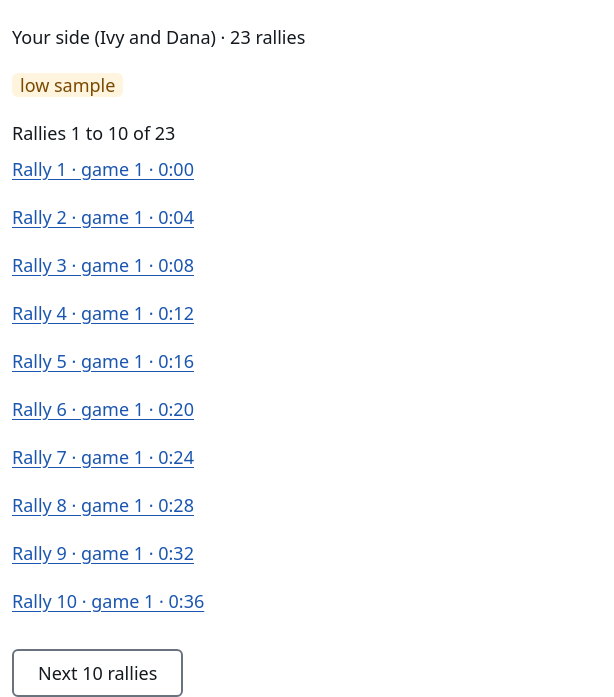
Test: E-02 all rallies behind a stat (EvidenceAll) › pages through 10 at a time with the position in words, forward and back
(page scrolled)
Expected: the text "Rallies 1 to 10 of 23" is shown, x1=12 y1=121 x2=175 y2=145
Expected: the text "Your side (Ivy and Dana) · 23 rallies" is shown, x1=12 y1=25 x2=305 y2=49
Click the button "Next 10 rallies".
click(98, 673)  # box x1=12 y1=649 x2=183 y2=696
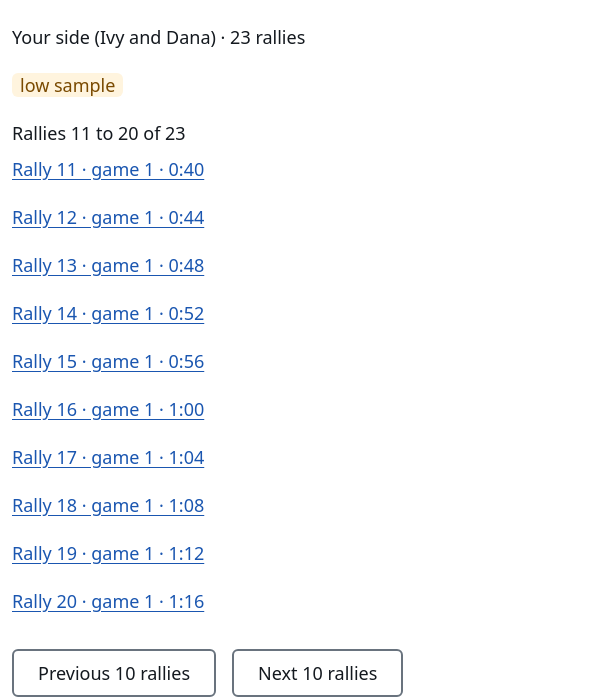
Now the text "Rallies 11 to 20 of 23" is shown, box x1=12 y1=121 x2=186 y2=145
Click the button "Next 10 rallies".
click(318, 673)  # box x1=232 y1=649 x2=403 y2=696
(page scrolled)
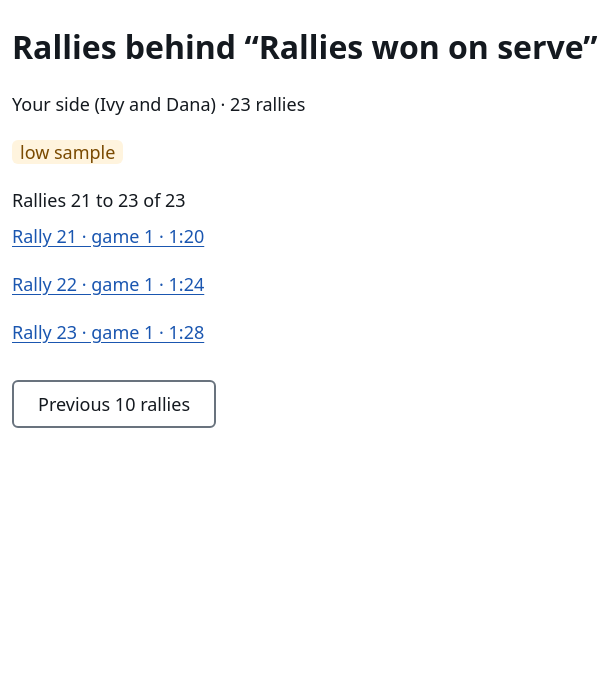
Now the text "Rallies 21 to 23 of 23" is shown, box x1=12 y1=188 x2=186 y2=212
Now the button "Next 10 rallies" is gone
Click the button "Previous 10 rallies".
click(114, 404)  # box x1=12 y1=380 x2=216 y2=428
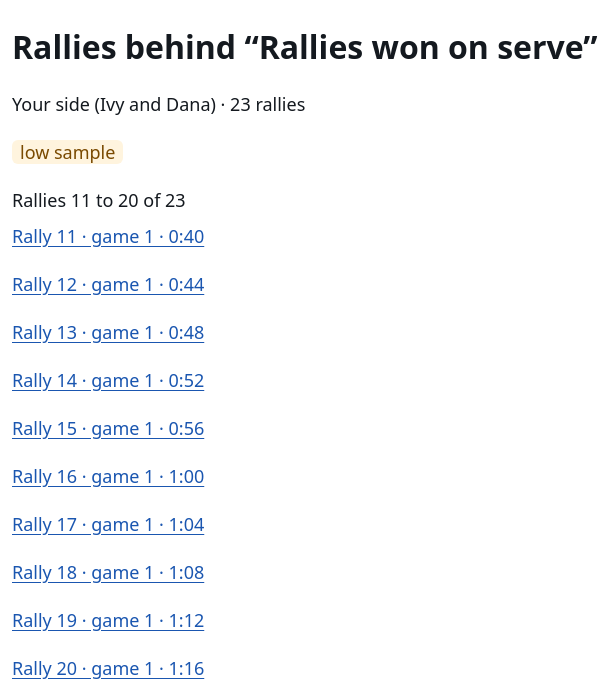
Now the text "Rallies 11 to 20 of 23" is shown, box x1=12 y1=188 x2=186 y2=212
